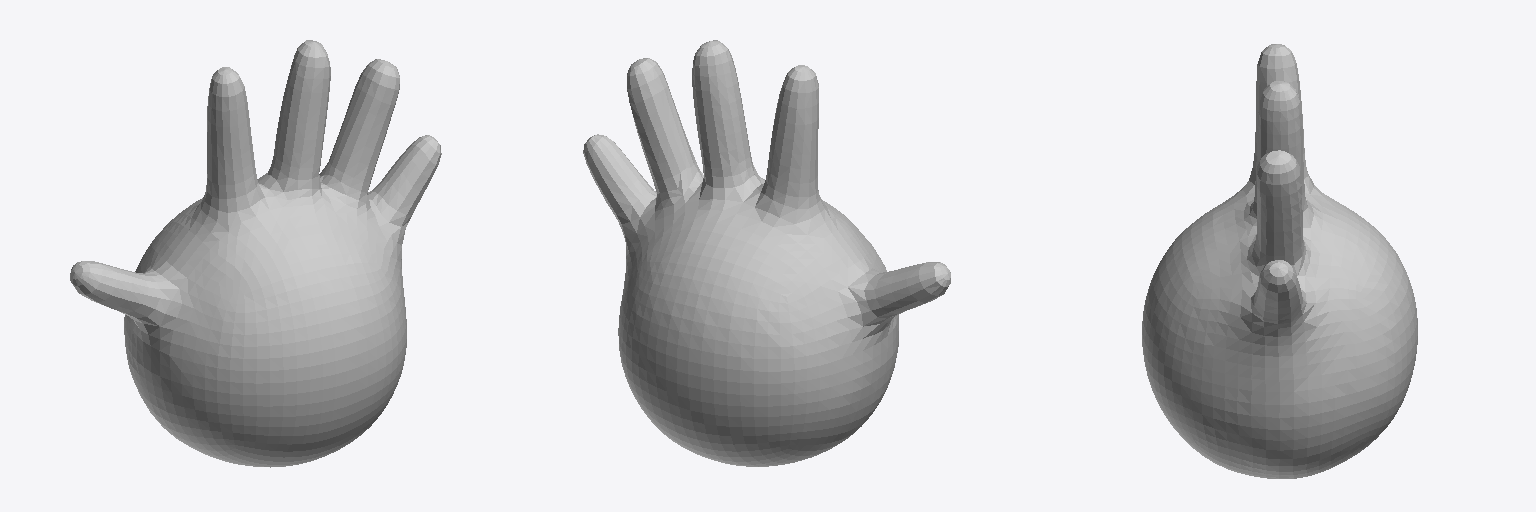
Rendered from balloontwo.obj.
3 views of the same model, side by side, from view 1: azimuth 30°, elevation 25°; view 2: azimuth 150°, elevation 25°; view 3: azimuth 270°, elevation 25° (orthographic).
Parts seen in each view (by area): view 1: sonnyjim_retopo_Cube.001; view 2: sonnyjim_retopo_Cube.001; view 3: sonnyjim_retopo_Cube.001.
Boxes of the visible parts, x1,y1,x2,y2 form: sonnyjim_retopo_Cube.001: [70, 40, 441, 467]; sonnyjim_retopo_Cube.001: [583, 40, 950, 466]; sonnyjim_retopo_Cube.001: [1142, 44, 1417, 478].
Bounding box in the file's own units: 287 × 301 × 188.